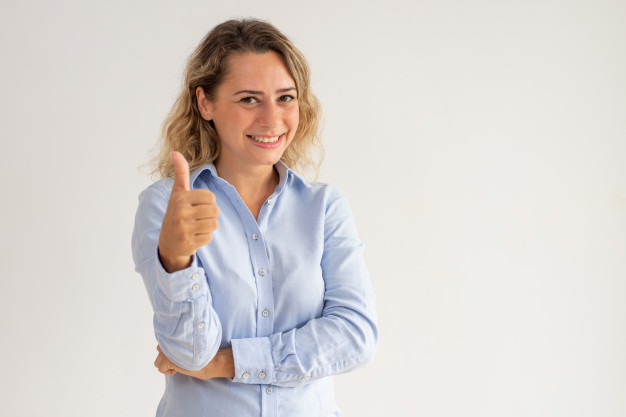thumbsup: (168, 150, 220, 248)
